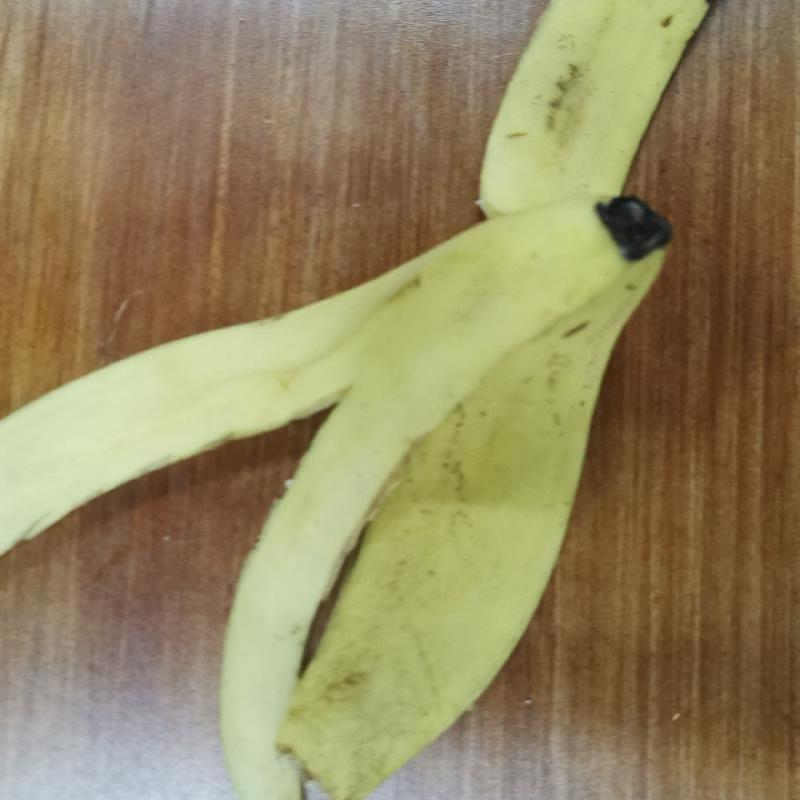bananas: (3, 1, 704, 799)
